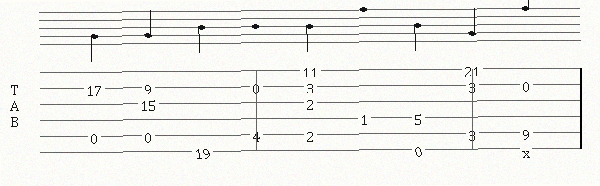0: (90, 127, 102, 141), (144, 127, 156, 141), (252, 79, 264, 93), (414, 143, 426, 157), (522, 79, 534, 93)
1: (360, 111, 372, 125)
11: (302, 63, 322, 77)
15: (140, 95, 160, 110)
17: (86, 79, 106, 93)
19: (194, 143, 214, 157)
2: (306, 127, 318, 141), (306, 95, 318, 109)
21: (464, 63, 484, 77)
3: (306, 79, 318, 93), (468, 127, 480, 141), (468, 79, 480, 93)
4: (252, 127, 264, 141)
5: (414, 111, 426, 126)
9: (144, 79, 156, 93), (522, 127, 534, 141)
x: (522, 145, 533, 156)
